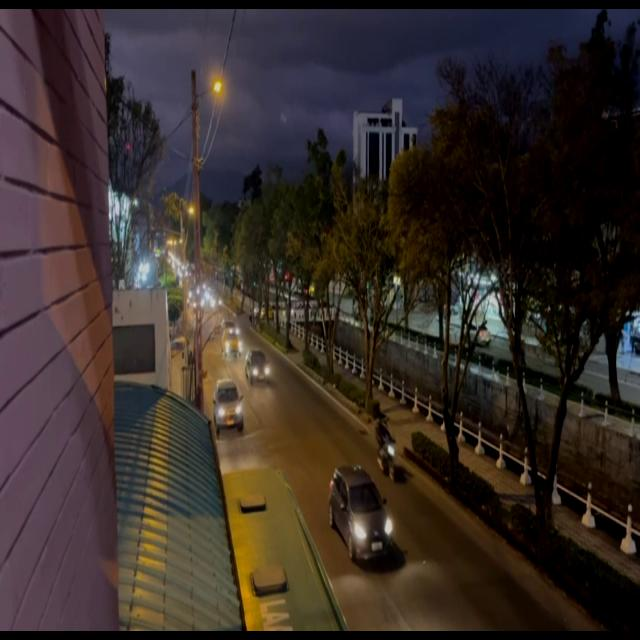MOTORCYCLE: (371, 419, 395, 478)
SED: (332, 466, 390, 560)
SUV: (247, 352, 269, 386)
